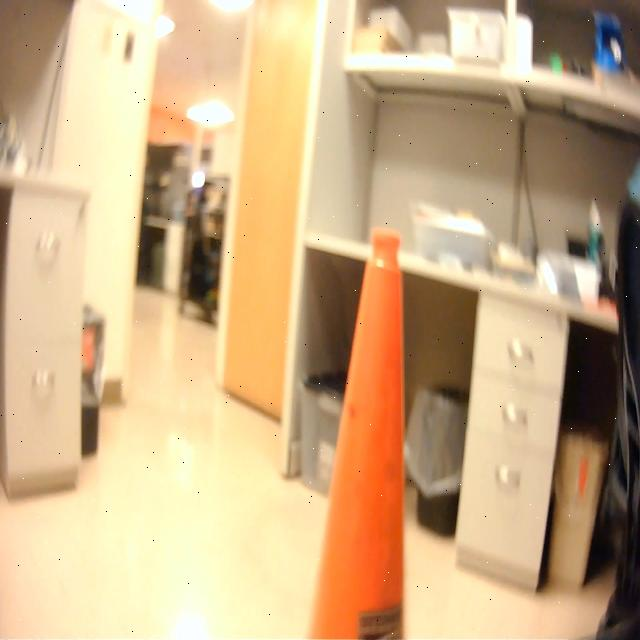traffic cone: (302, 219, 415, 640)
